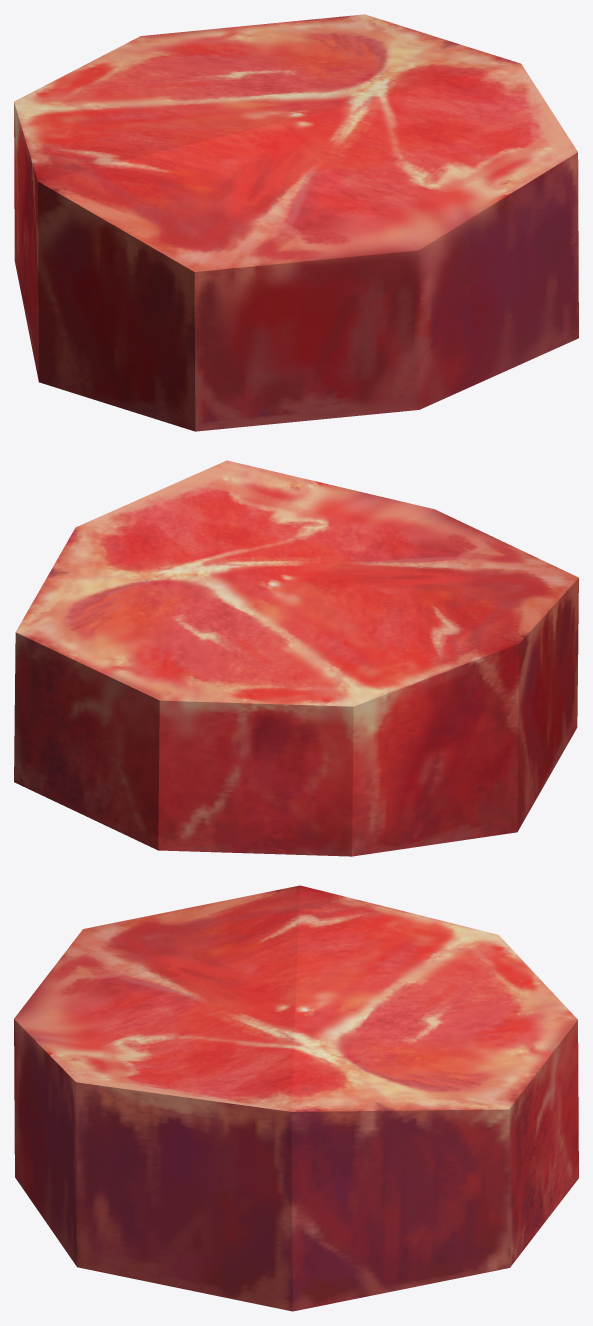
File: 04_meat_piece_03.obj
The picture shows the model from 3 angles, top to bottom: view 1: azimuth 30°, elevation 25°; view 2: azimuth 150°, elevation 25°; view 3: azimuth 270°, elevation 25°; orthographic projection. The views are drawn at different scales.
Parts seen in each view (by area): view 1: 04_meat_piece_03; view 2: 04_meat_piece_03; view 3: 04_meat_piece_03.
Part boxes in pixels (x1,y1,x2,y2): 04_meat_piece_03: (14, 14, 578, 431); 04_meat_piece_03: (14, 460, 578, 856); 04_meat_piece_03: (14, 885, 578, 1311).
Bounding box in the file's own units: 0.6648 × 0.2779 × 0.6868.
1 material, 1 textured.
